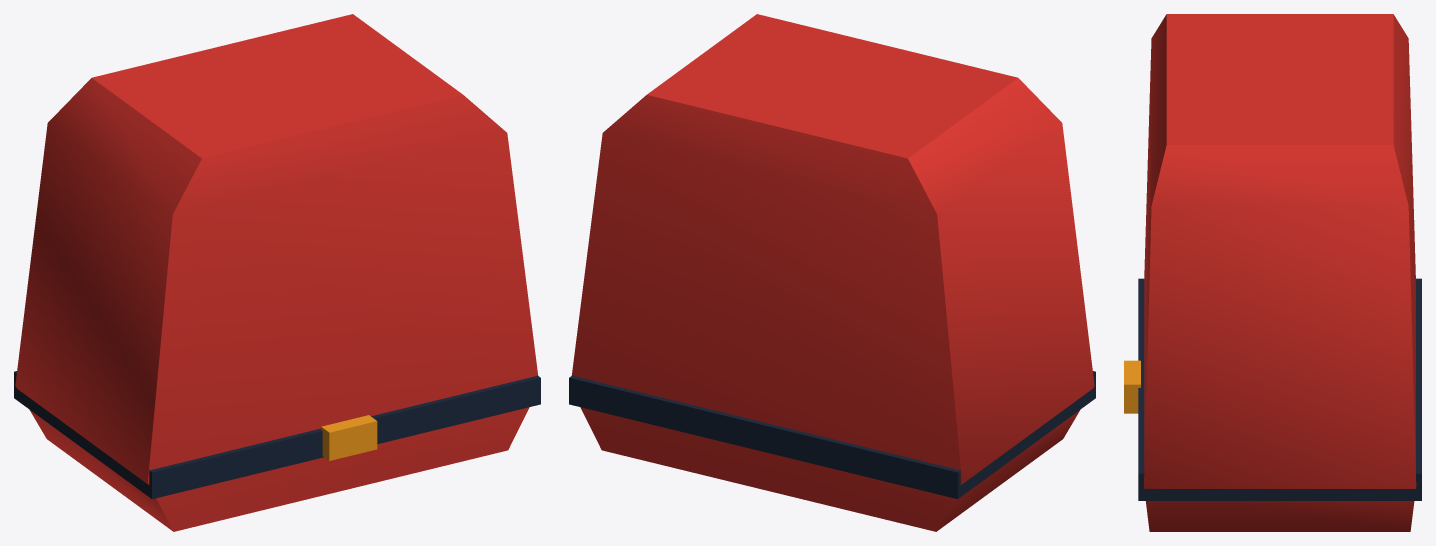
The model's file is Torso.glb.
The picture shows the model from 3 angles, left to right: view 1: azimuth 30°, elevation 25°; view 2: azimuth 150°, elevation 25°; view 3: azimuth 270°, elevation 25°; orthographic projection. The views are drawn at different scales.
Parts seen in each view (by area): view 1: jacket, belt, buckle; view 2: jacket, belt; view 3: jacket, belt, buckle.
Boxes of the visible parts, <box> form: jacket: <box>15,14,538,531</box>; belt: <box>14,371,540,499</box>; buckle: <box>321,415,377,460</box>; jacket: <box>571,14,1094,531</box>; belt: <box>569,371,1095,499</box>; jacket: <box>1144,14,1416,531</box>; belt: <box>1138,278,1421,500</box>; buckle: <box>1124,360,1140,413</box>.
Bounding box in the file's own units: 2.46 × 2.15 × 1.57.
